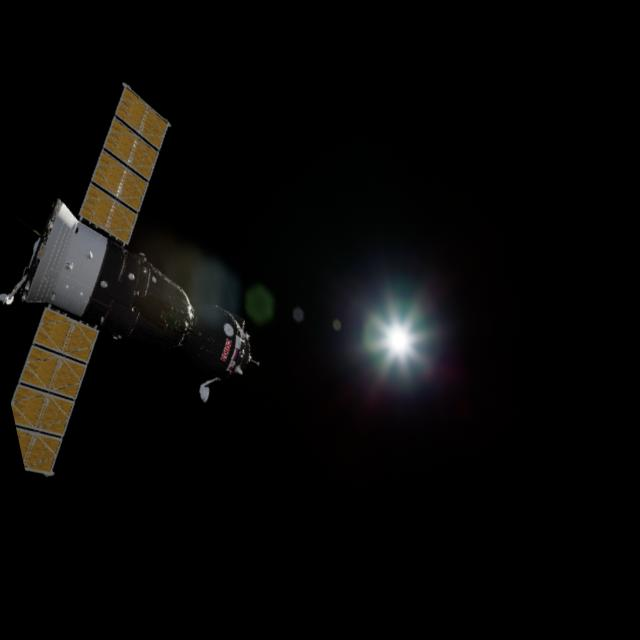Satellites revolving around earth: (0, 64, 273, 482)
